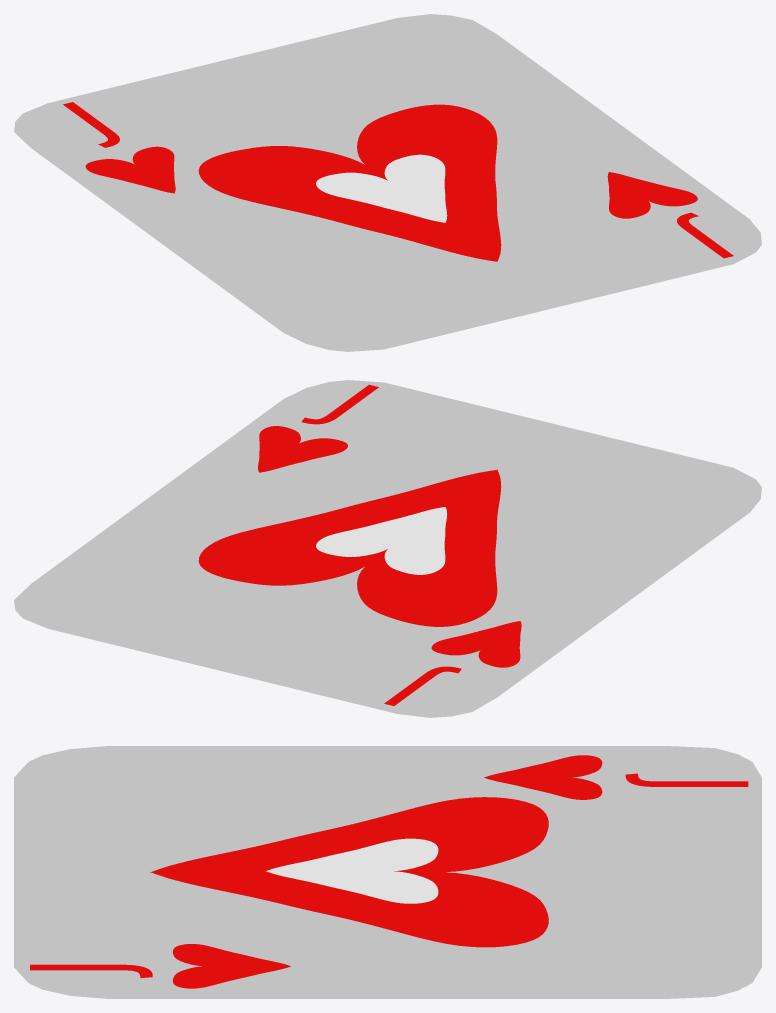
3 renders of one model, top to bottom at view 1: azimuth 30°, elevation 25°; view 2: azimuth 150°, elevation 25°; view 3: azimuth 270°, elevation 25°, orthographic. The views are drawn at different scales.
Visible parts, largest first — view 1: JackofHearts, Plane.075_Red, Plane.074_White, Plane.066_Red, Plane.065_Red, Font.020_Bla_Blac.002, Font.019_Bla_Blac.002; view 2: JackofHearts, Plane.075_Red, Plane.074_White, Plane.066_Red, Plane.065_Red, Font.019_Bla_Blac.002, Font.020_Bla_Blac.002; view 3: JackofHearts, Plane.075_Red, Plane.074_White, Plane.066_Red, Plane.065_Red, Font.020_Bla_Blac.002, Font.019_Bla_Blac.002.
Boxes of the visible parts, x1=… form: JackofHearts: x1=14, y1=14, x2=761, y2=351; Plane.075_Red: x1=198, y1=104, x2=501, y2=261; Plane.074_White: x1=316, y1=154, x2=447, y2=222; Plane.066_Red: x1=85, y1=146, x2=175, y2=193; Plane.065_Red: x1=607, y1=172, x2=697, y2=218; Font.020_Bla_Blac.002: x1=677, y1=212, x2=733, y2=258; Font.019_Bla_Blac.002: x1=63, y1=102, x2=119, y2=147; JackofHearts: x1=14, y1=380, x2=761, y2=717; Plane.075_Red: x1=198, y1=469, x2=501, y2=626; Plane.074_White: x1=316, y1=507, x2=447, y2=574; Plane.066_Red: x1=431, y1=621, x2=521, y2=667; Plane.065_Red: x1=258, y1=426, x2=347, y2=472; Font.019_Bla_Blac.002: x1=384, y1=666, x2=461, y2=705; Font.020_Bla_Blac.002: x1=301, y1=384, x2=378, y2=424; JackofHearts: x1=14, y1=746, x2=761, y2=998; Plane.075_Red: x1=150, y1=797, x2=548, y2=947; Plane.074_White: x1=266, y1=838, x2=438, y2=903; Plane.066_Red: x1=484, y1=755, x2=602, y2=799; Plane.065_Red: x1=172, y1=944, x2=290, y2=988; Font.020_Bla_Blac.002: x1=30, y1=964, x2=152, y2=977; Font.019_Bla_Blac.002: x1=625, y1=773, x2=748, y2=786.
Size of the model in its own units: 1.6 by 0.00374 by 2.
